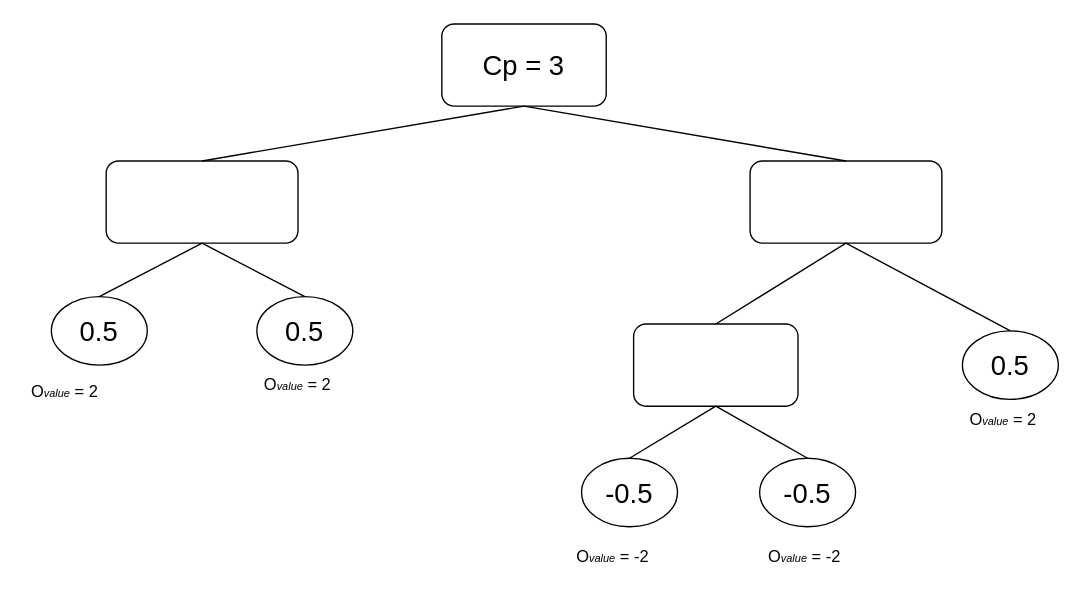
The diagram is 1082 pixels wide and 595 high, and some of its shapes have lost their labels. Here are the shapes that lost their labels. From the top down, the centre of each, then its label:
the point at 201,201: Thalac < 170
the point at 845,201: Thalac < 188
the point at 715,364: Cp = 0
